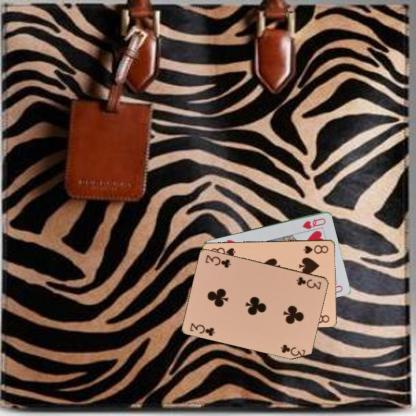3c: (187, 320, 216, 337), (294, 274, 322, 290)
8s: (301, 242, 330, 255)
Qh: (300, 215, 327, 230)
